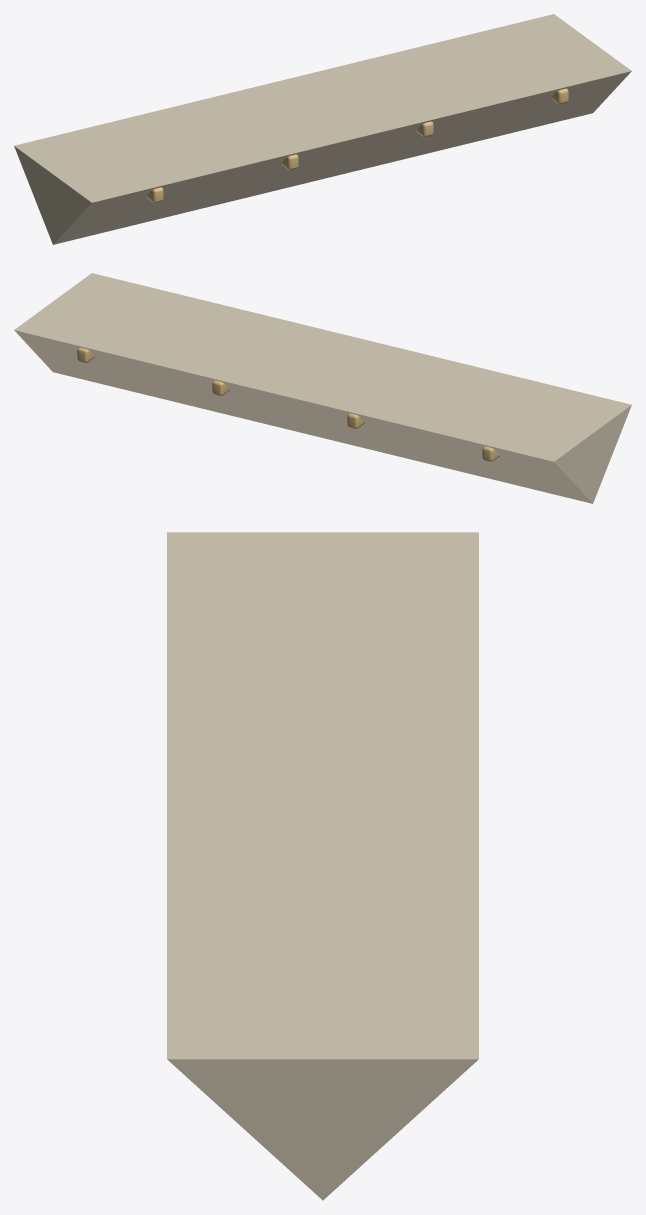
Rendered from SM_Roof_Ridge_4m.fbx.
3 views of the same model, one above another, from view 1: azimuth 30°, elevation 25°; view 2: azimuth 150°, elevation 25°; view 3: azimuth 270°, elevation 25° (orthographic). The views are drawn at different scales.
Parts seen in each view (by area): view 1: SM_Roof_Ridge_4m; view 2: SM_Roof_Ridge_4m; view 3: SM_Roof_Ridge_4m.
Part boxes in pixels (x1,y1,x2,y2): SM_Roof_Ridge_4m: [14, 14, 631, 244]; SM_Roof_Ridge_4m: [14, 273, 631, 503]; SM_Roof_Ridge_4m: [167, 532, 478, 1200].
Bounding box in the file's own units: 4 × 0.5 × 1.
